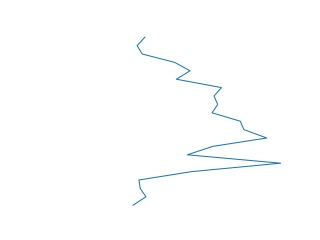floodSwamp: (127, 39, 285, 207)
